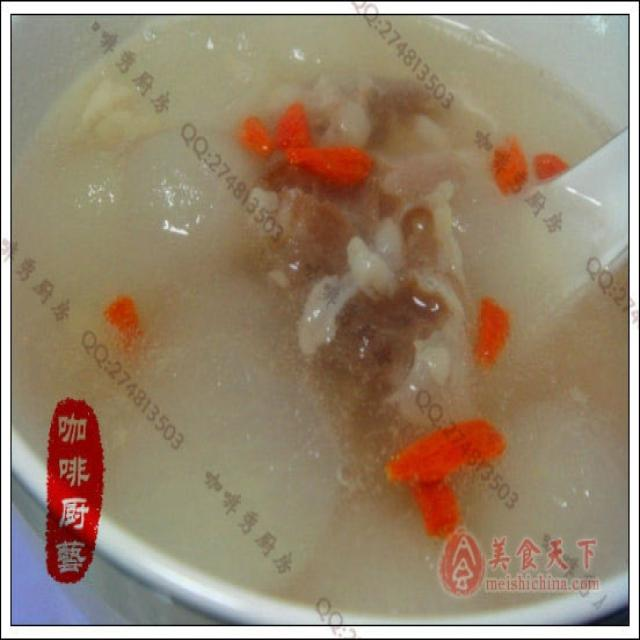汤锅炖物: (42, 23, 589, 605)
